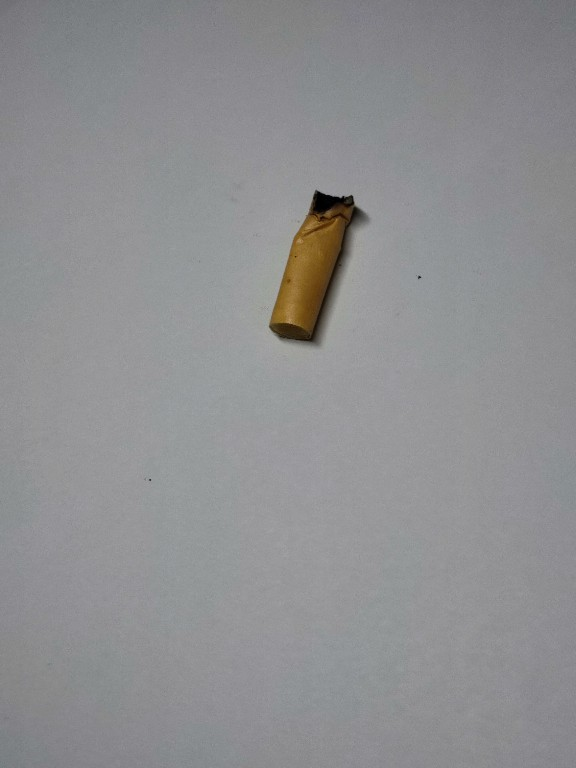cigarette: (265, 187, 362, 344)
